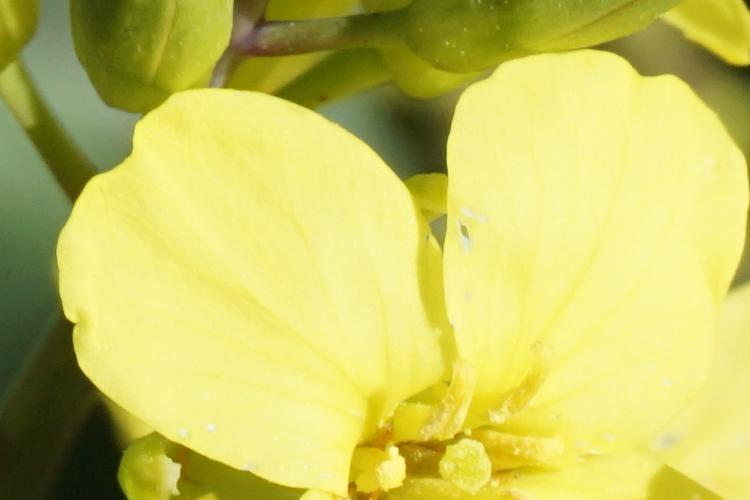bud: (395, 4, 693, 72), (67, 2, 238, 111)
yellow: (48, 81, 746, 500)
